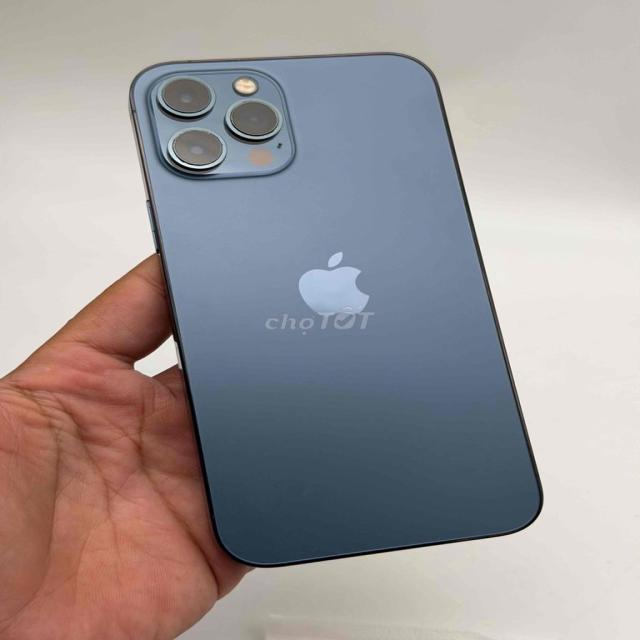gen_15: (112, 46, 541, 568)
